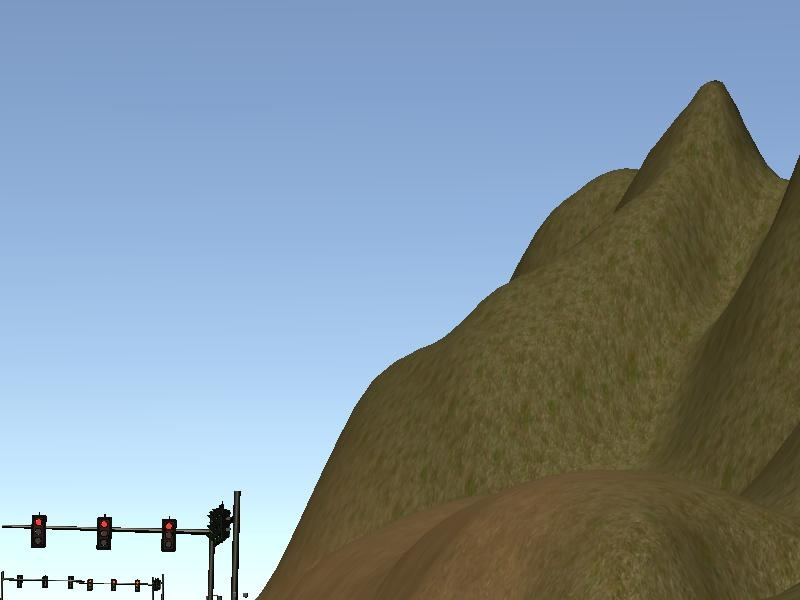red: (24, 509, 54, 553), (157, 514, 183, 559), (90, 512, 115, 553)
